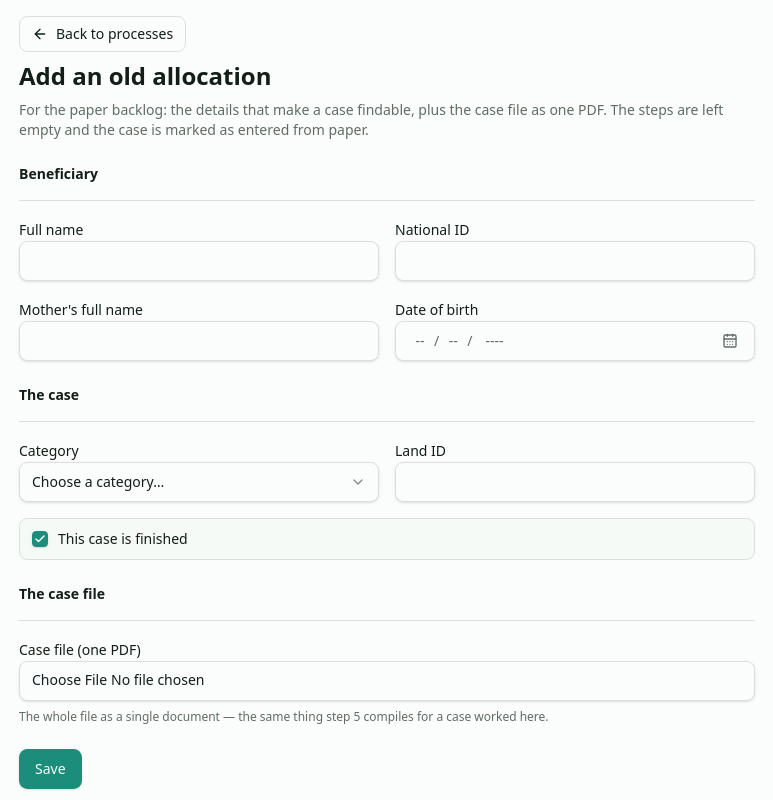
it: FastEntryPage › refuses a number in a name, in either script
In the field labelled "Full name": coordinates (199, 261) top-left (19, 241), bottom-right (379, 281), type "Karwan2 Ahmed"
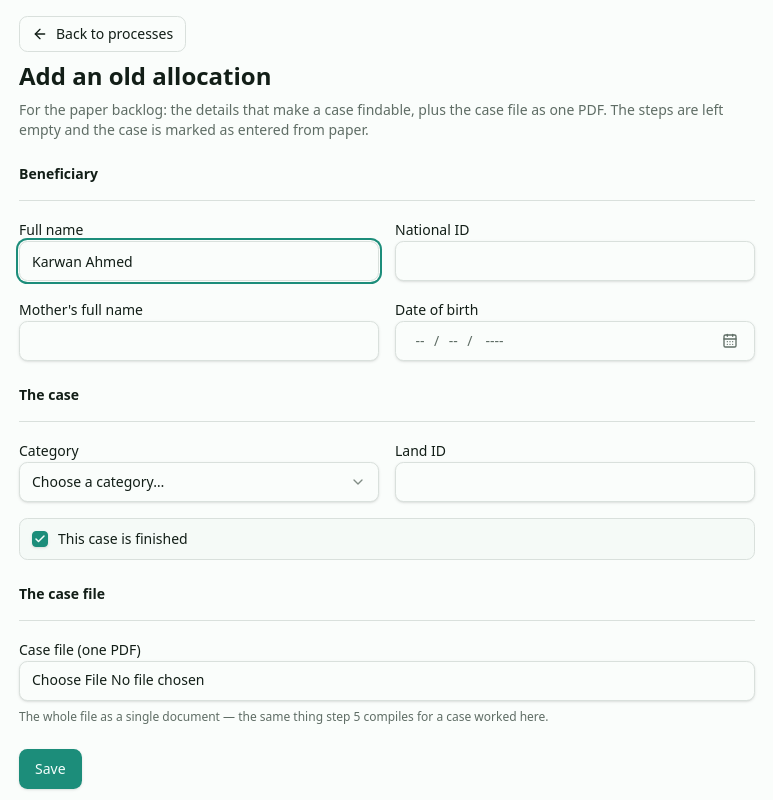
In the field labelled "Mother's full name": coordinates (199, 341) top-left (19, 321), bottom-right (379, 361), type "Nask٧ Ali"
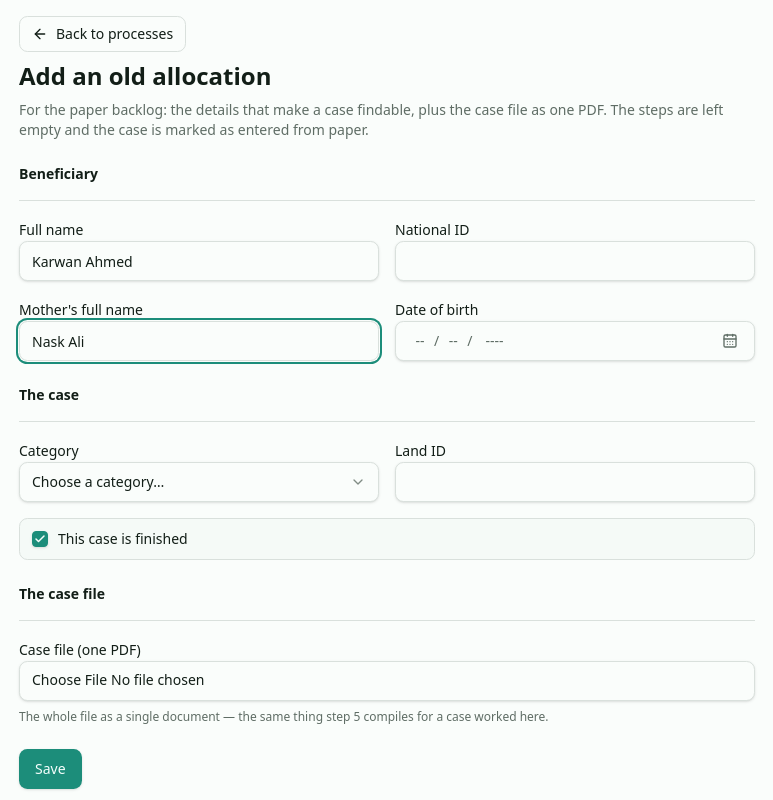
Now the field labelled "Full name" holds "Karwan Ahmed", box top-left (19, 241), bottom-right (379, 281)
Now the field labelled "Mother's full name" holds "Nask Ali", box top-left (19, 321), bottom-right (379, 361)
